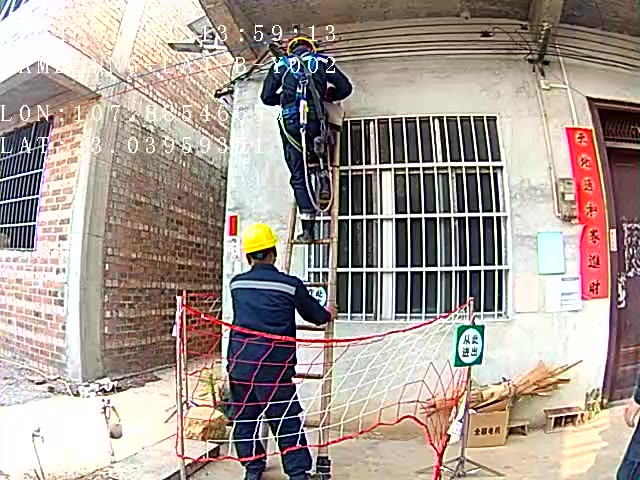downsuit: (223, 355, 311, 480), (281, 120, 327, 214)
halt: (241, 222, 281, 267), (288, 36, 317, 55)
hand: (622, 395, 639, 428), (327, 303, 337, 317)
intosign: (452, 321, 485, 366)
person: (217, 222, 333, 480), (260, 36, 350, 243)
safebelt: (276, 51, 337, 211)
shoe: (294, 214, 314, 243), (319, 175, 336, 200)
upsuit: (225, 264, 322, 352), (262, 50, 348, 115)
worksign: (305, 283, 328, 308)
